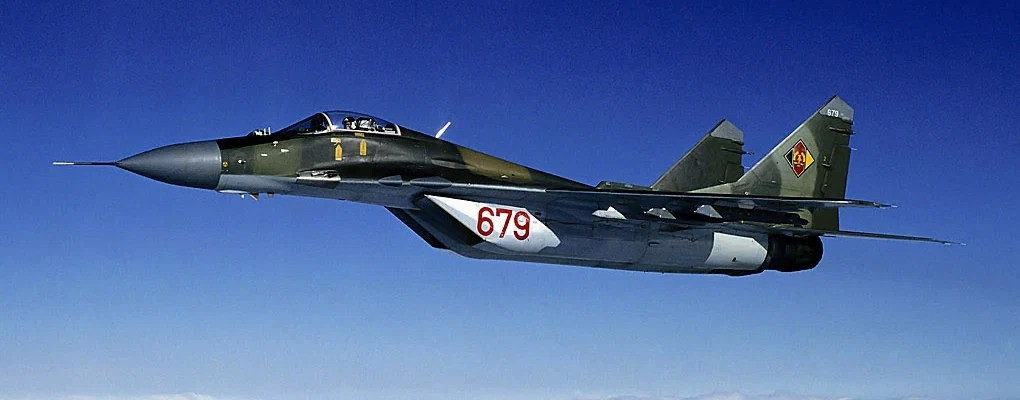Mig-29: (38, 60, 973, 331)
